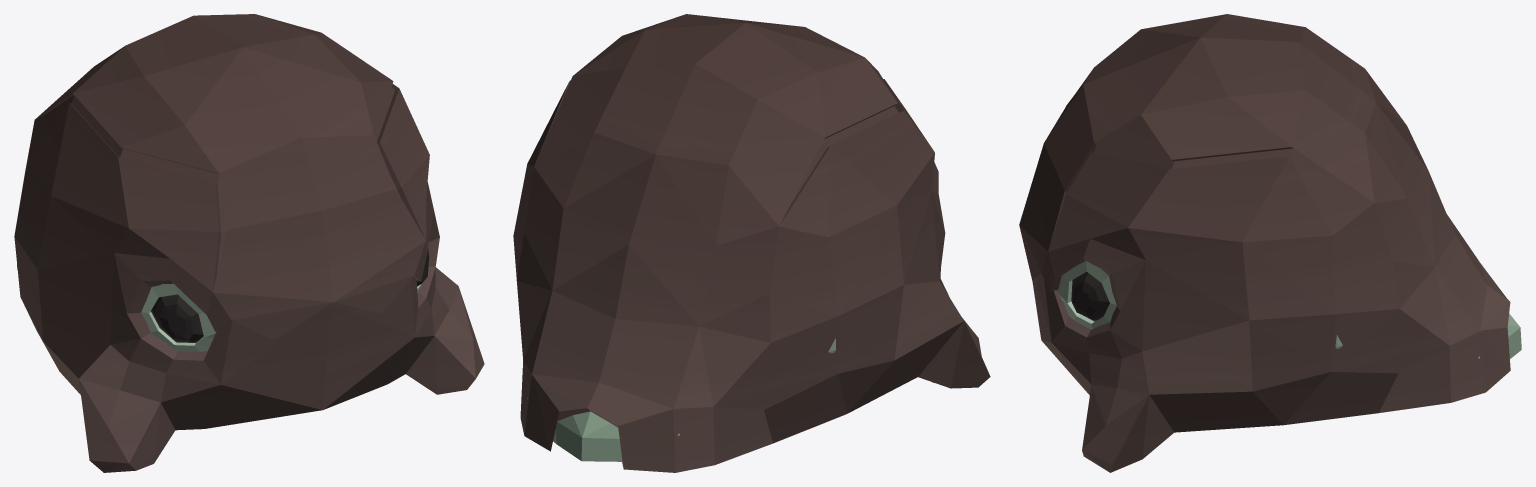
Rendered from Demigod.fbx.
The picture shows the model from 3 angles, left to right: view 1: azimuth 30°, elevation 25°; view 2: azimuth 150°, elevation 25°; view 3: azimuth 270°, elevation 25°; orthographic projection.
Visible parts, largest first — view 1: Cube.004, Cube.003, Cube.001; view 2: Cube.004, Cube; view 3: Cube.004, Cube.001, Cube.003, Cube.
Boxes of the visible parts, box(x1,y1,x2,y2) form: Cube.004: box(14, 14, 484, 472); Cube.003: box(151, 247, 429, 342); Cube.001: box(141, 283, 421, 352); Cube.004: box(513, 14, 990, 472); Cube: box(527, 338, 933, 461); Cube.004: box(1019, 14, 1510, 472); Cube.001: box(1057, 261, 1116, 329); Cube.003: box(1071, 271, 1109, 321); Cube: box(1335, 313, 1521, 358).
Size of the model in its own units: 391 by 329 by 433.
Materials: 1 (1 with a texture image).
